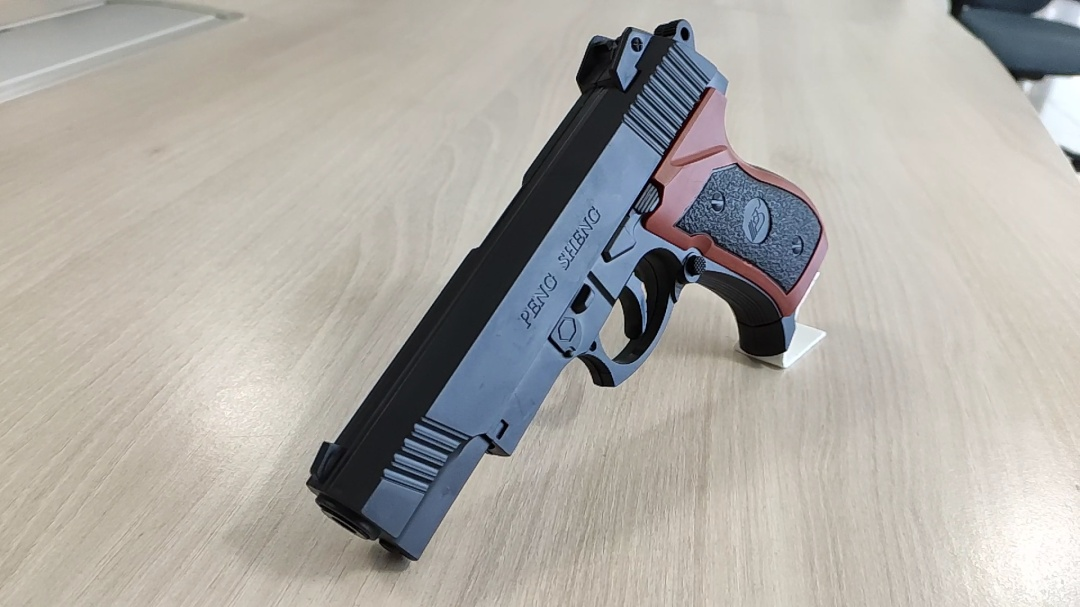gun: (597, 218, 757, 282)
